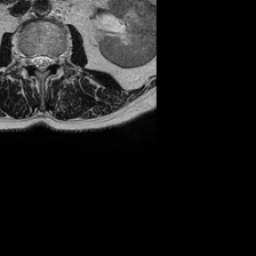CCS_normal: (38, 49, 44, 76)
LFS_normal: (52, 50, 59, 70)
LLS_normal: (44, 49, 52, 72)
RFS_normal: (24, 48, 31, 71)
RLS_normal: (31, 49, 38, 72)
